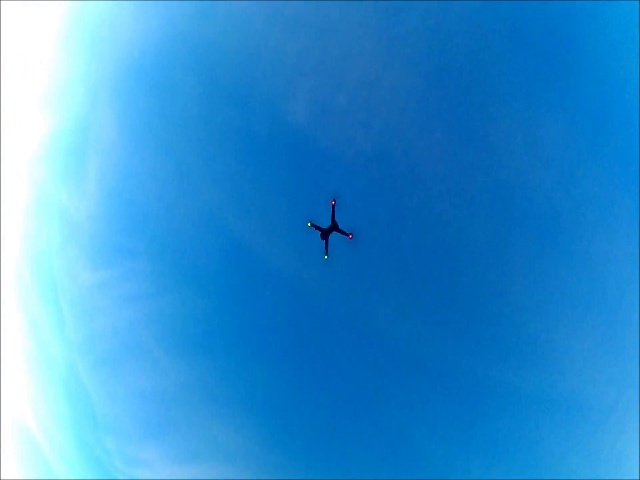drone: (301, 203, 358, 260)
